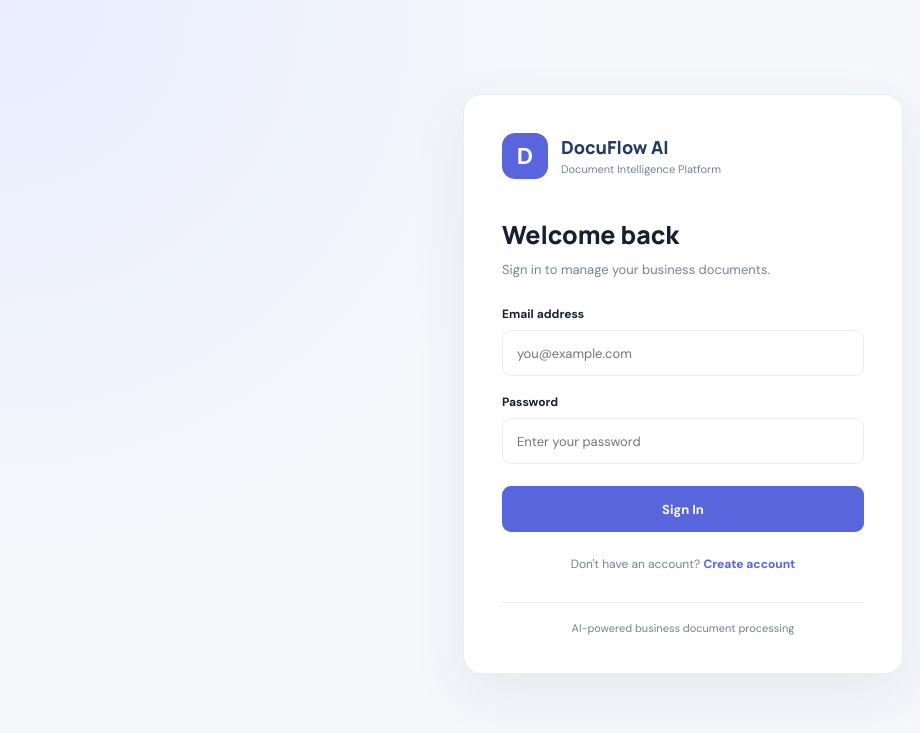
Test: AuthScreen › displays login errors
The width and height of the screenshot is (920, 733).
Type "test@example.com" into the field labelled "Email address" at {"x": 683, "y": 353}, box [502,330,864,376]
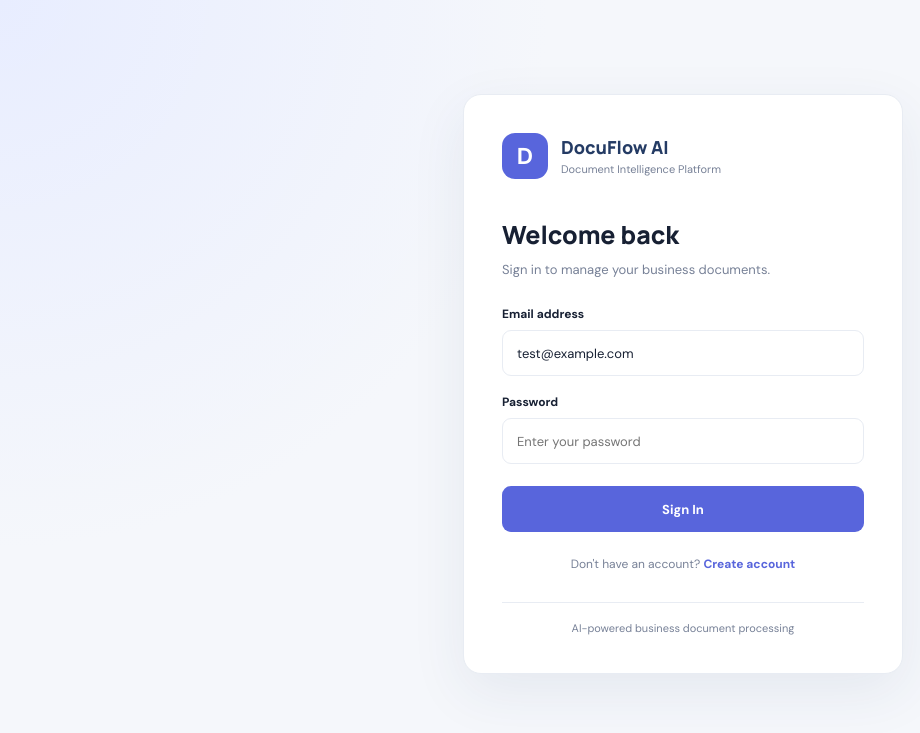
Type "wrongpassword" into the password field labelled "Password" at {"x": 683, "y": 441}, box [502,418,864,464]
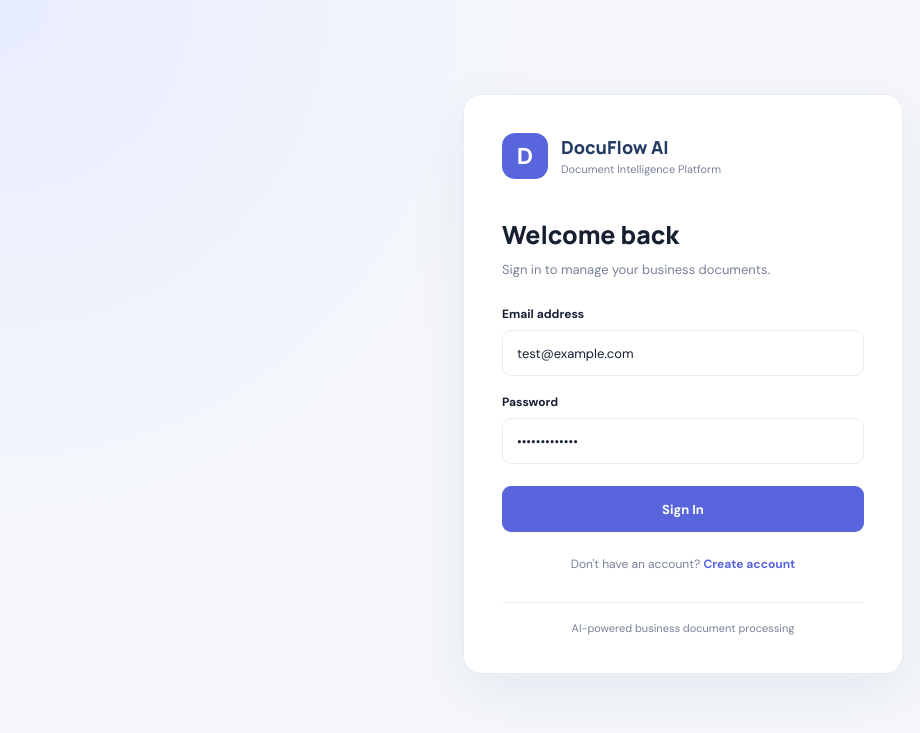
Click the button "Sign In" at {"x": 683, "y": 509}, box [502,486,864,532]
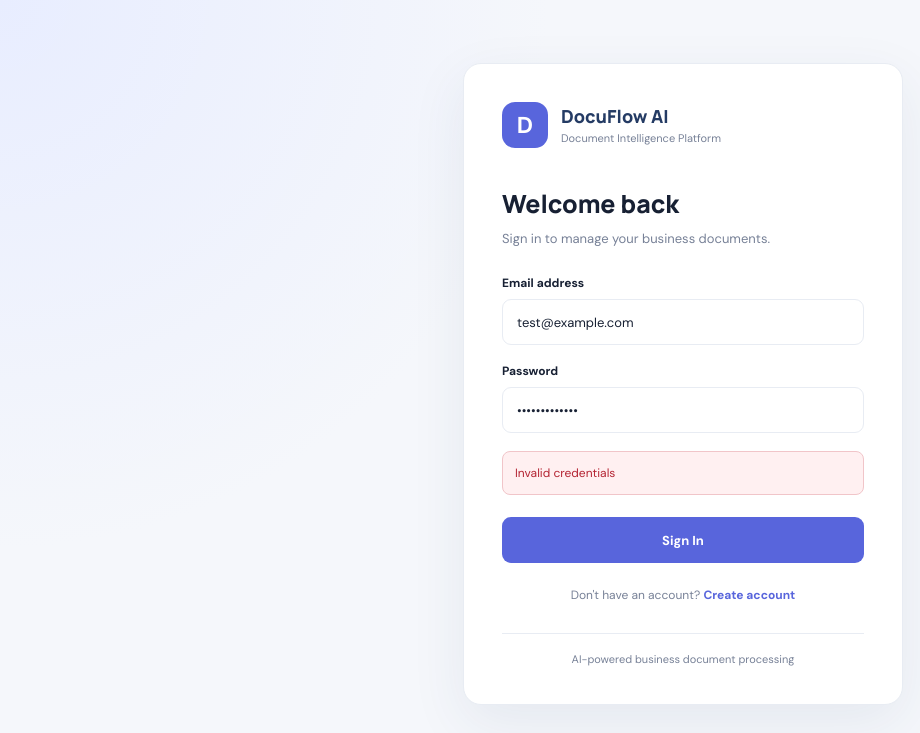
Result: the text "Invalid credentials" is shown at [502,451,864,495]
